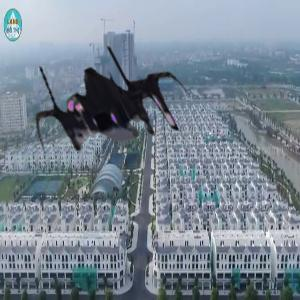drone: (27, 26, 194, 193)
